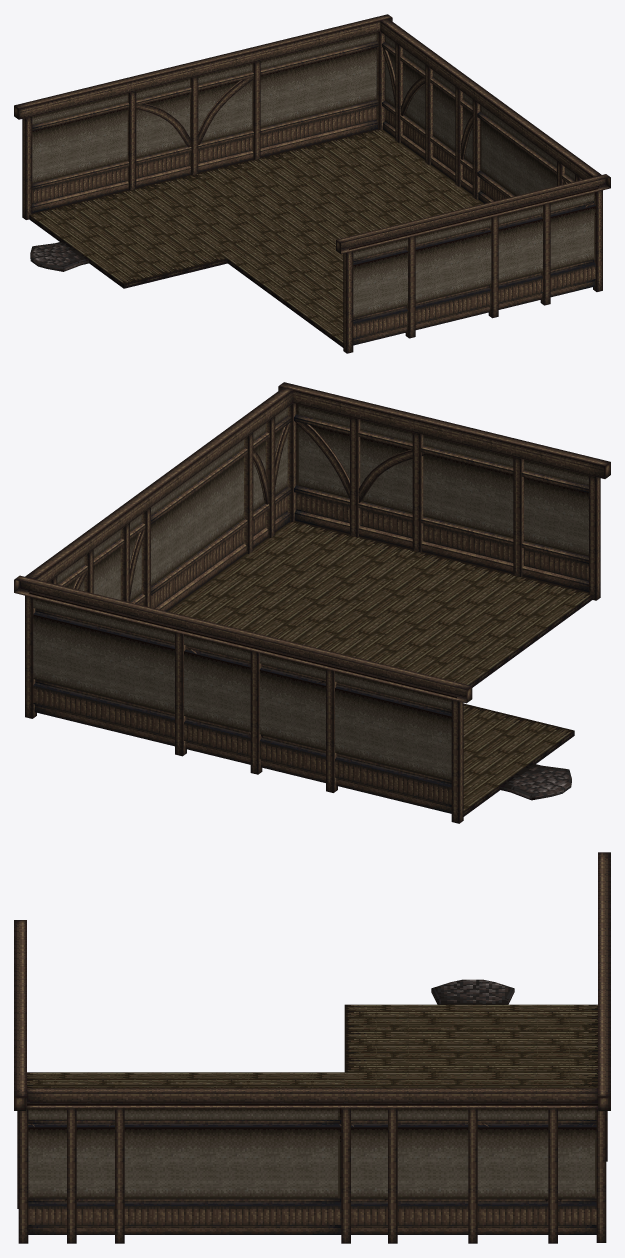
Rendered from EnvBdgMD_Mount_A_Indoor_Library.FBX.
3 renders of one model, top to bottom at view 1: azimuth 30°, elevation 25°; view 2: azimuth 150°, elevation 25°; view 3: azimuth 270°, elevation 25°, orthographic. The views are drawn at different scales.
Parts seen in each view (by area): view 1: EnvBdgMD_Mount_A_Indoor_Library; view 2: EnvBdgMD_Mount_A_Indoor_Library; view 3: EnvBdgMD_Mount_A_Indoor_Library.
Part boxes in pixels (x1=…): EnvBdgMD_Mount_A_Indoor_Library: x1=14, y1=14, x2=610, y2=353; EnvBdgMD_Mount_A_Indoor_Library: x1=14, y1=382, x2=610, y2=823; EnvBdgMD_Mount_A_Indoor_Library: x1=14, y1=852, x2=610, y2=1243.
Bounding box in the file's own units: 1950 × 520 × 1860.
1 material, 1 textured.
